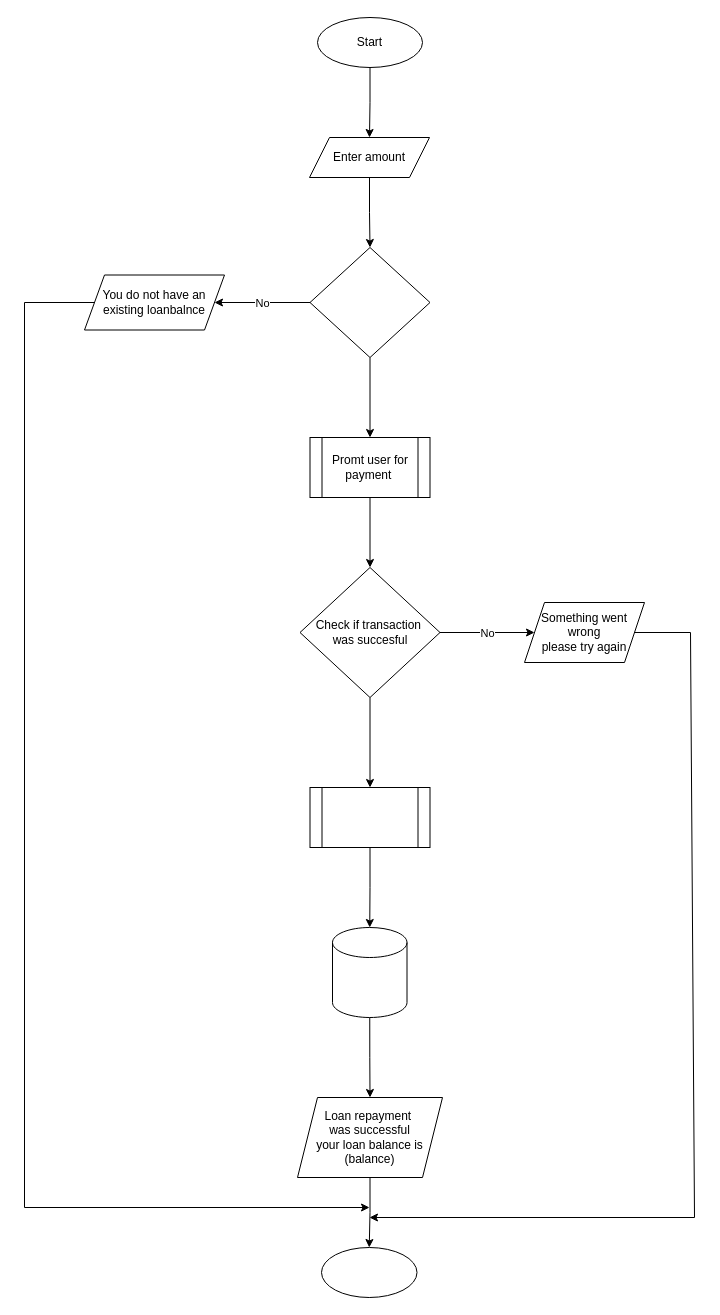
The diagram is 720 pixels wide and 1315 high, and some of its shapes have lost their labels. The shapes that lost their labels are listed below. From the top down, each one's centre as x and y in pixels, then its label:
At (x=369, y=302): "Check if user has loan balance".
At (x=369, y=817): "Process Transaction and calculate balance".
At (x=369, y=972): "Save transaction and update balance".
At (x=368, y=1272): "Stop".
